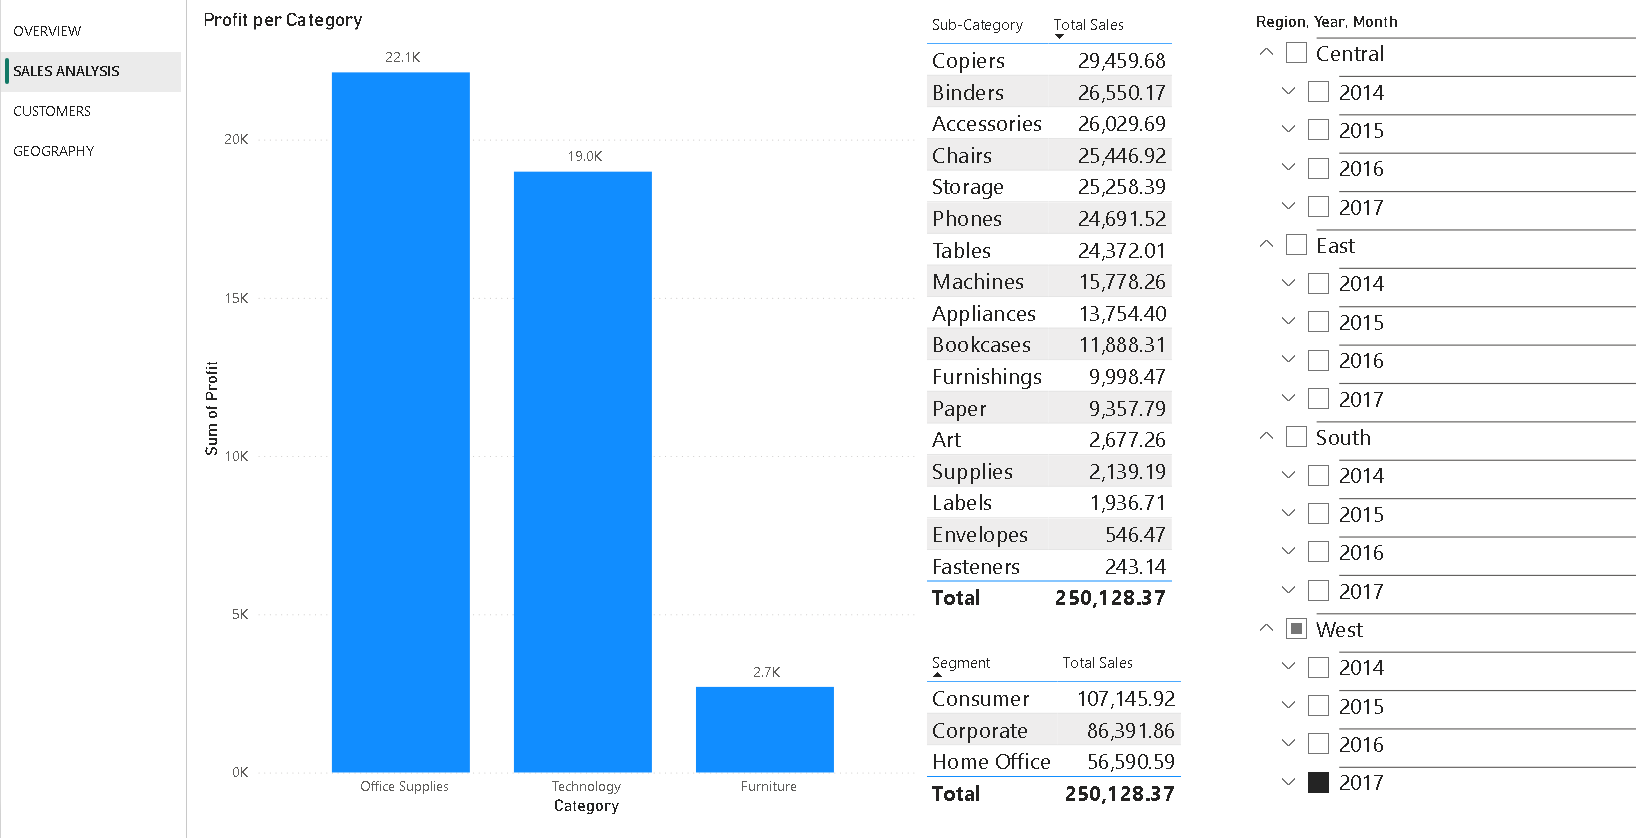

What the dashboard file says about the page in this screenshot:
{"tool":"powerbi","page":{"name":"SALES ANALYSIS","canvas":[1280,720],"ordinal":1},"visuals":[{"type":"tableEx","fields":{"Values":["clean_superstore.Sub-Category","Sum(clean_superstore.Sales)"]},"box":[640.5,0,298.6,564.9],"z":0},{"type":"clusteredColumnChart","title":"Profit per Category","fields":{"Y":["Sum(clean_superstore.Profit)"],"Category":["clean_superstore.Category"]},"box":[0,1,640.5,719.2],"z":1000},{"type":"tableEx","fields":{"Values":["clean_superstore.Segment","Sum(clean_superstore.Sales)"]},"box":[640.5,564.9,298.6,155.3],"z":2000},{"type":"slicer","title":"Region/Date","fields":{"Values":["clean_superstore.Region","clean_superstore.year","clean_superstore.month"]},"box":[924.9,0,355.1,719.2],"z":3000}]}

Visuals, with their boxes on the page's 1280x720 design canvas (x1, y1, x2, y2). These are canvas units, not pixel positions in the 1652x838 screenshot, which may show the page scaled, cropped or inside an application window:
tableEx - clean_superstore.Sub-Category x Sum(clean_superstore.Sales): <bbox>640, 0, 939, 565</bbox>
"Profit per Category" clusteredColumnChart: <bbox>0, 1, 640, 720</bbox>
tableEx - clean_superstore.Segment x Sum(clean_superstore.Sales): <bbox>640, 565, 939, 720</bbox>
"Region/Date" slicer: <bbox>925, 0, 1280, 719</bbox>
